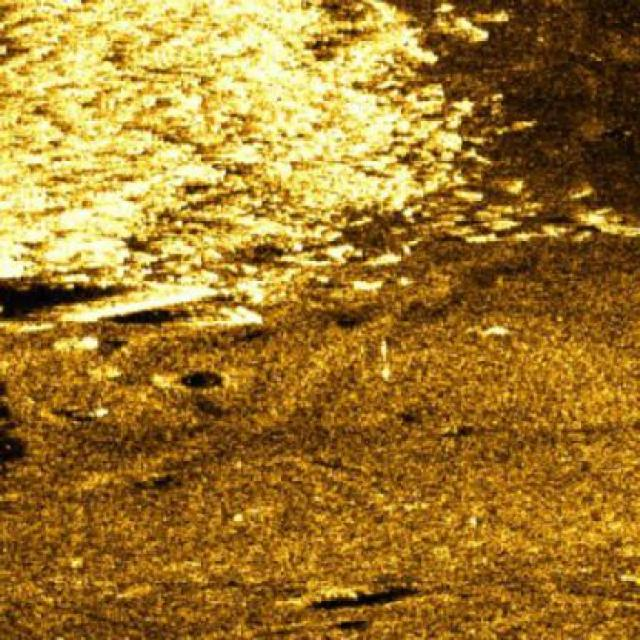bedrock group: (0, 0, 492, 294)
